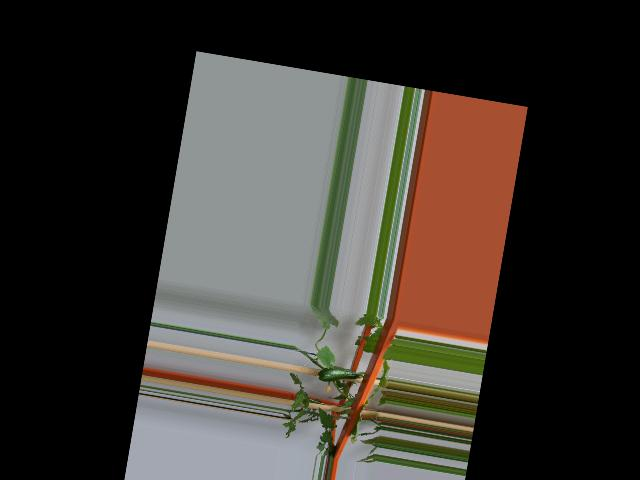cucumber: (313, 363, 358, 386)
